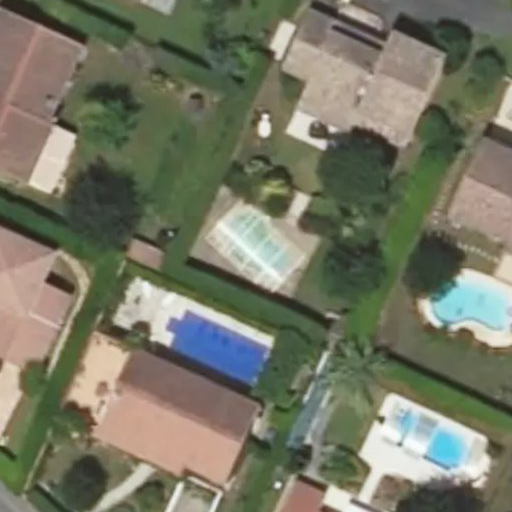pool: (212, 228, 296, 263)
